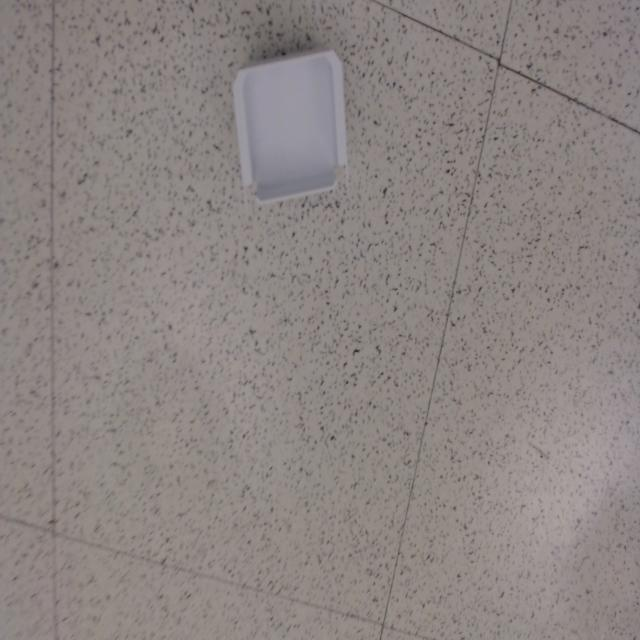wbox: (231, 44, 350, 207)
